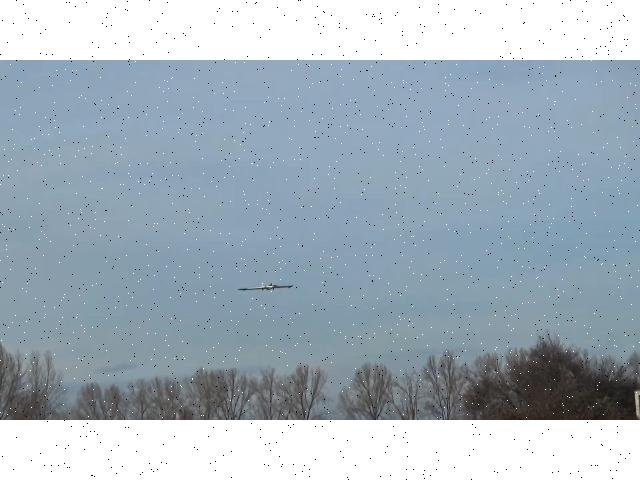Anti-Drone: (238, 283, 292, 291)
